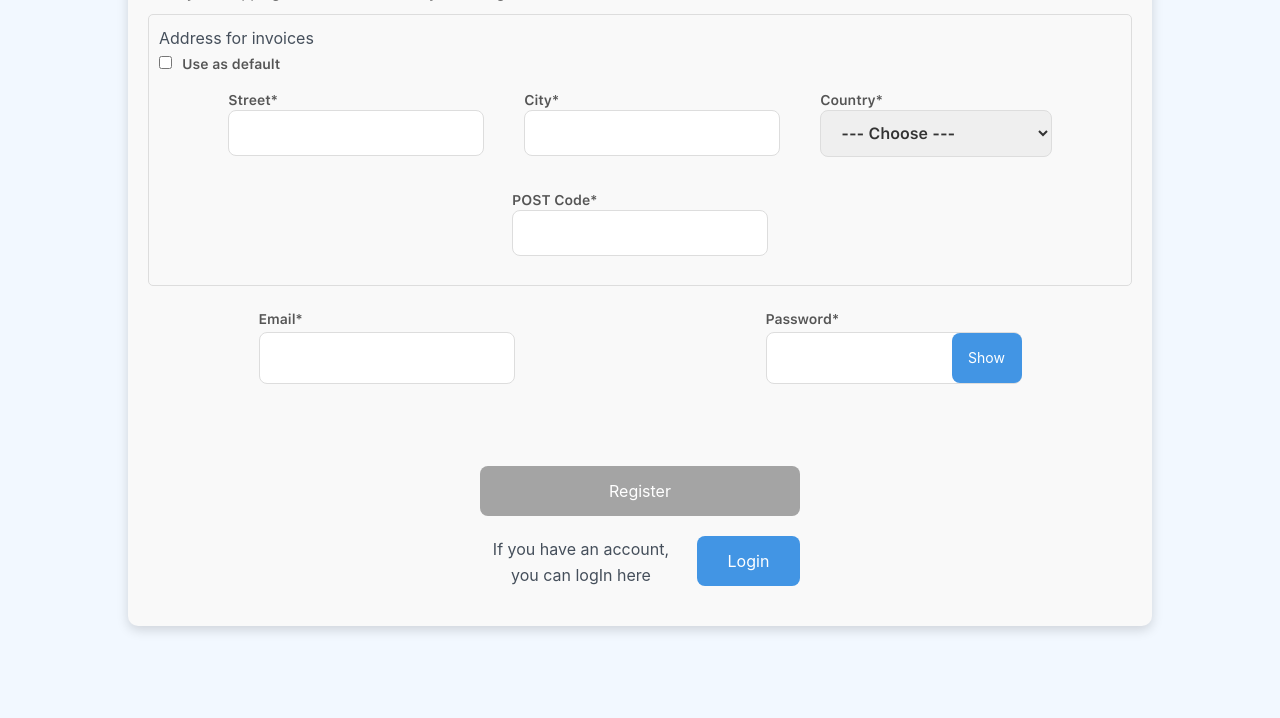
it: checking input wrong value on Registration page › checking input wrong value for email on Registration page
(page scrolled)
Type "  some@gmail.com " into the field with id "email". click: (386,358)
box: [258,332,514,384]
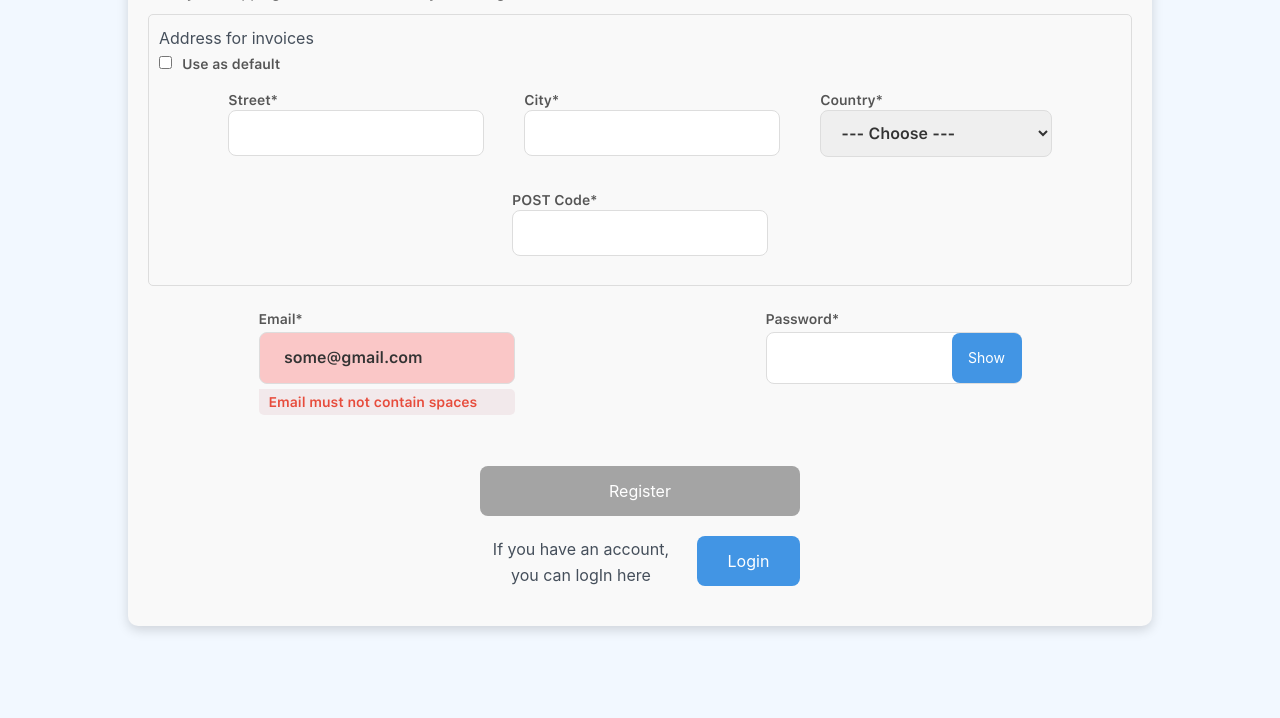
Result: the text "Email must not contain spaces" is shown at [258,389,514,415]
